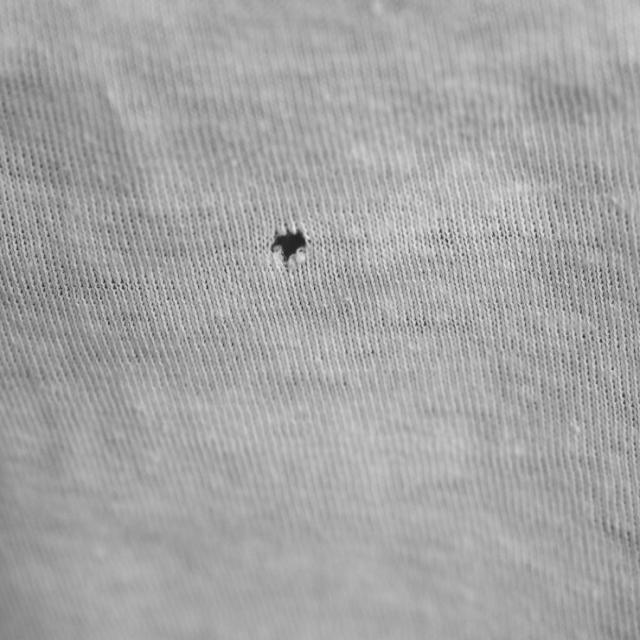Hole: (270, 231, 305, 263)
